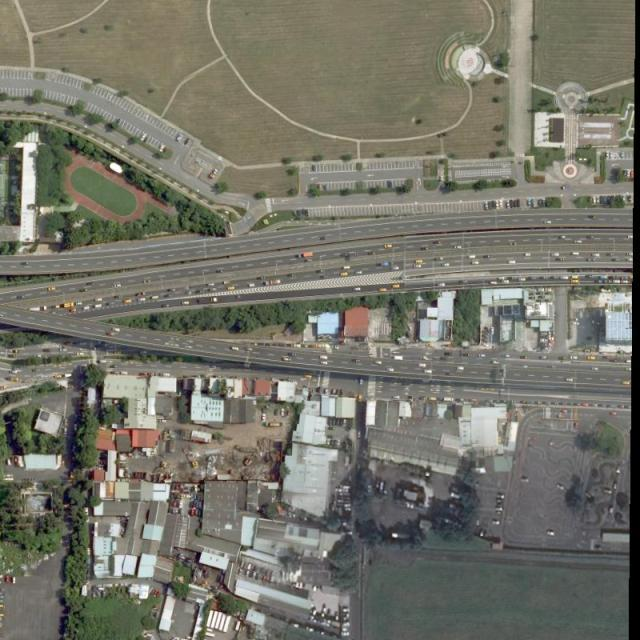vehicle: (198, 297, 218, 304), (29, 306, 47, 313), (297, 252, 313, 258), (265, 280, 281, 286), (265, 422, 282, 427), (556, 483, 565, 490), (176, 133, 182, 142), (160, 144, 166, 153), (110, 327, 120, 332), (115, 118, 121, 126), (546, 530, 554, 536), (492, 200, 497, 209), (65, 303, 74, 308), (357, 429, 362, 438), (106, 331, 115, 336), (230, 346, 239, 351), (282, 357, 291, 362), (569, 355, 578, 360), (9, 377, 18, 382), (443, 398, 454, 402), (144, 135, 150, 142), (470, 261, 480, 265), (185, 138, 190, 146), (245, 346, 253, 351), (320, 355, 328, 360), (613, 482, 618, 490), (6, 458, 11, 466), (75, 301, 83, 306), (621, 381, 630, 385), (424, 370, 433, 374), (161, 373, 170, 377), (460, 280, 469, 284), (603, 490, 612, 494), (80, 289, 89, 293), (461, 353, 470, 357), (613, 279, 620, 284), (141, 134, 146, 141), (320, 360, 327, 365), (386, 367, 393, 372), (437, 282, 445, 286), (571, 252, 579, 256), (421, 247, 429, 251), (570, 279, 578, 283), (498, 200, 502, 208), (489, 202, 493, 210), (484, 202, 488, 210), (502, 354, 510, 358), (226, 286, 234, 290), (94, 304, 102, 308), (94, 298, 102, 302), (354, 271, 362, 275), (565, 378, 573, 382), (591, 367, 599, 371), (456, 366, 464, 370), (478, 354, 486, 358), (418, 363, 426, 367), (304, 374, 312, 378), (520, 479, 528, 483), (495, 507, 503, 511), (86, 282, 94, 286), (617, 465, 621, 473), (353, 359, 361, 363), (288, 352, 296, 356), (9, 354, 17, 358), (10, 370, 18, 374), (209, 288, 217, 292), (166, 294, 174, 298), (107, 302, 115, 306), (137, 292, 145, 296), (574, 422, 579, 428), (4, 474, 14, 477), (143, 280, 150, 284), (518, 278, 525, 282), (379, 288, 386, 292), (592, 254, 599, 258), (508, 261, 515, 265), (509, 242, 516, 246), (485, 254, 492, 258), (454, 245, 461, 249), (502, 280, 509, 284), (527, 199, 531, 206), (510, 200, 514, 207), (262, 414, 266, 421), (138, 298, 145, 302), (82, 306, 89, 310), (70, 308, 77, 312), (385, 245, 392, 249), (571, 321, 578, 325), (54, 374, 61, 378), (610, 152, 614, 159), (589, 214, 596, 218), (99, 359, 106, 363), (521, 355, 528, 359), (610, 506, 614, 513), (497, 495, 504, 499), (217, 270, 224, 274), (391, 285, 400, 288), (382, 263, 391, 266), (587, 356, 596, 359), (588, 258, 594, 262), (551, 254, 559, 257), (543, 220, 551, 223), (442, 263, 450, 266), (507, 201, 510, 209), (496, 202, 499, 210), (413, 265, 421, 268), (391, 267, 399, 270), (374, 361, 382, 364), (47, 287, 55, 290), (248, 283, 254, 287), (627, 170, 630, 178), (110, 365, 118, 368), (140, 372, 146, 376), (149, 373, 157, 376), (435, 258, 443, 261), (587, 235, 595, 238), (558, 235, 566, 238), (541, 356, 547, 360), (121, 371, 127, 375), (493, 521, 499, 525), (392, 396, 400, 399), (429, 397, 437, 400), (458, 398, 464, 402), (531, 438, 537, 442), (559, 402, 565, 406), (34, 355, 42, 358), (198, 290, 204, 294), (318, 270, 326, 273), (289, 274, 297, 277), (207, 283, 215, 286), (491, 327, 494, 334), (621, 280, 628, 283), (574, 240, 581, 243), (469, 255, 476, 258), (415, 260, 422, 263), (623, 170, 626, 177), (628, 195, 631, 202), (594, 197, 597, 204), (597, 197, 600, 204), (514, 199, 517, 206), (445, 352, 452, 355), (182, 302, 189, 305), (151, 296, 158, 299), (113, 284, 120, 287), (358, 395, 361, 402), (282, 410, 285, 417), (343, 266, 350, 269), (124, 300, 131, 303), (111, 372, 118, 375), (360, 378, 363, 385), (434, 242, 441, 245), (490, 282, 497, 285), (561, 276, 568, 279), (571, 275, 578, 278), (559, 357, 566, 360), (535, 402, 542, 405), (558, 415, 565, 418), (599, 404, 606, 407), (591, 403, 598, 406), (575, 403, 582, 406), (159, 420, 166, 423), (77, 353, 84, 356), (65, 418, 68, 425), (18, 296, 25, 299), (321, 275, 328, 278), (116, 296, 123, 299), (509, 276, 514, 280), (524, 254, 530, 257), (606, 254, 615, 256), (622, 196, 625, 202), (341, 273, 347, 276), (606, 152, 609, 158), (6, 576, 9, 582), (498, 277, 504, 280), (180, 502, 183, 508), (409, 396, 415, 399), (470, 399, 476, 402), (568, 403, 574, 406), (551, 402, 557, 405), (60, 349, 66, 352), (224, 282, 230, 285), (4, 478, 13, 480), (353, 288, 361, 290), (621, 153, 624, 158), (614, 258, 619, 261), (181, 494, 184, 499), (191, 510, 194, 515), (325, 389, 328, 394), (543, 402, 548, 405), (618, 406, 623, 409), (258, 277, 263, 280), (518, 199, 520, 206), (13, 576, 15, 583), (419, 397, 426, 399), (607, 405, 614, 407), (582, 404, 589, 406), (163, 304, 170, 306), (529, 277, 535, 279), (492, 362, 498, 364), (522, 401, 526, 404), (562, 410, 568, 412), (610, 413, 616, 415), (169, 289, 175, 291), (65, 429, 67, 434), (1, 312, 3, 317)
